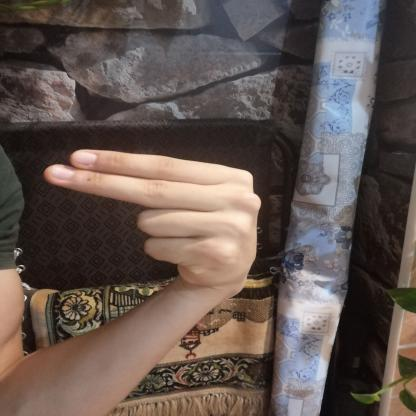AYN: (20, 134, 274, 301)
